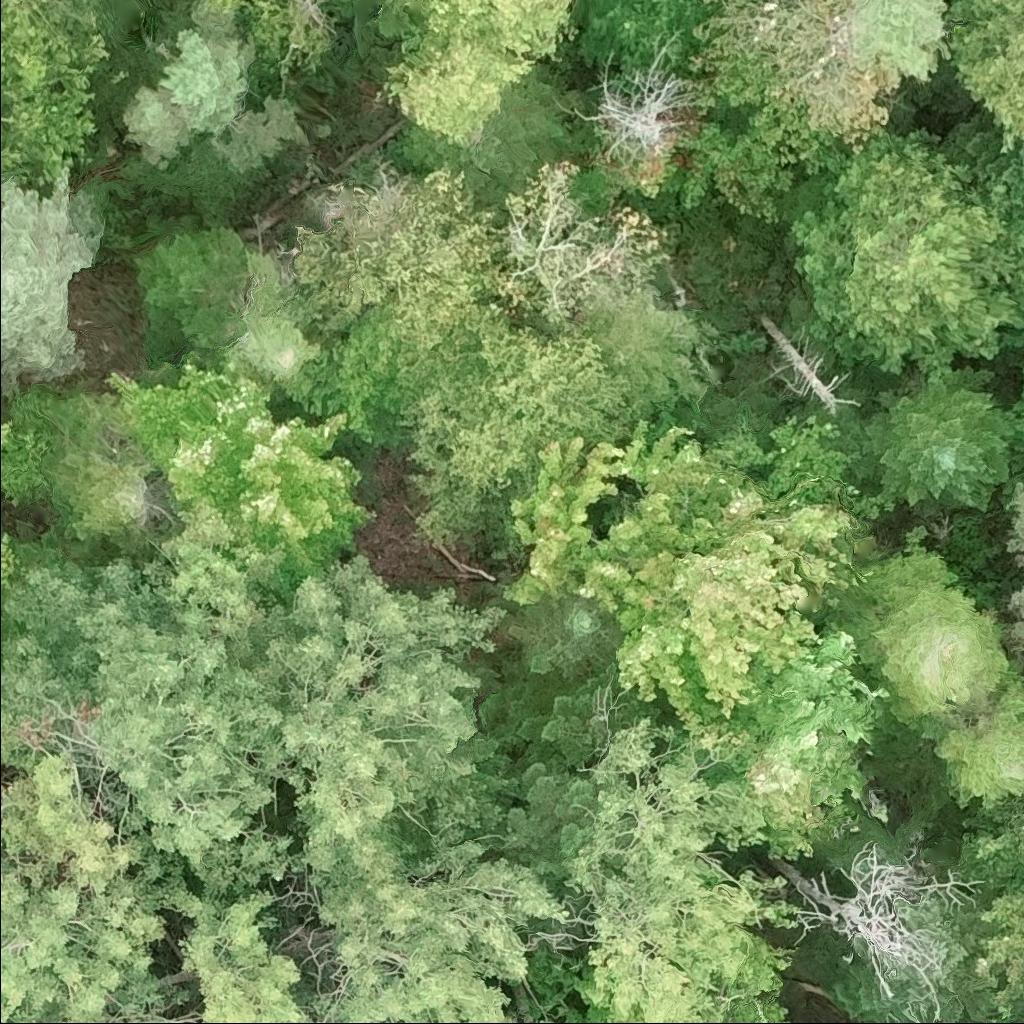crown: (0, 500, 311, 894), (502, 417, 873, 725), (266, 552, 510, 894), (560, 715, 802, 1023), (105, 343, 382, 583), (778, 124, 1023, 382), (394, 322, 641, 556), (294, 831, 572, 1023), (673, 621, 890, 863), (0, 751, 178, 1023), (684, 0, 905, 177), (840, 524, 1013, 749), (376, 0, 578, 144), (388, 65, 585, 205), (0, 158, 115, 397), (849, 366, 1019, 513), (163, 882, 319, 1023), (133, 217, 266, 368), (0, 3, 100, 194), (627, 121, 800, 223), (572, 35, 695, 172), (500, 664, 659, 768), (951, 799, 1023, 1001), (924, 675, 1023, 818), (47, 446, 163, 568), (230, 251, 323, 386), (482, 592, 624, 680), (945, 0, 1023, 151), (153, 29, 259, 135), (943, 108, 1023, 223), (848, 0, 952, 84), (213, 93, 305, 173), (118, 84, 190, 170), (0, 0, 103, 49), (105, 986, 188, 1023), (1003, 481, 1023, 569), (1003, 579, 1023, 655), (0, 534, 19, 591), (0, 414, 20, 453), (202, 0, 259, 10)
